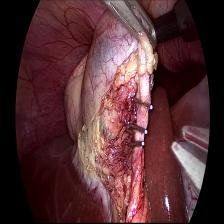Clipper: (170, 120, 210, 190)
Grasper: (98, 0, 158, 59)
